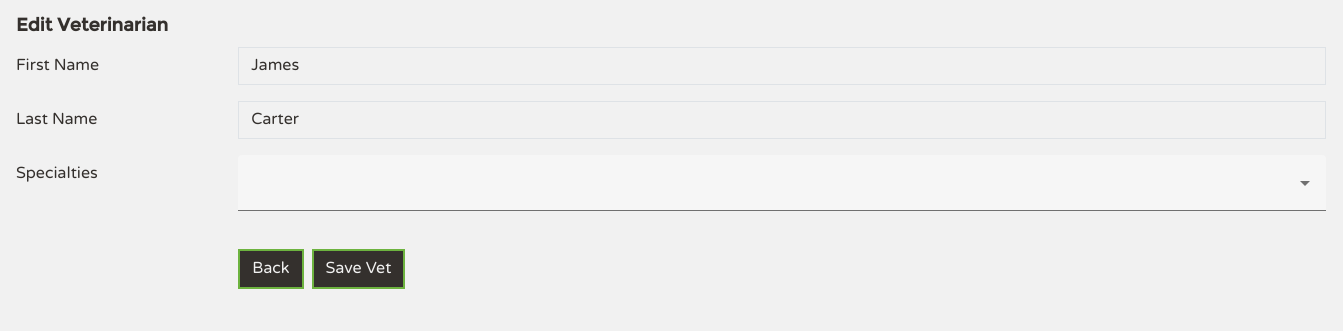
Test: VetEditComponent › should disable the submit button when the form is invalid
Replace the text in the field with id "lastName" with "C" at [782, 120], box [238,101,1326,139]
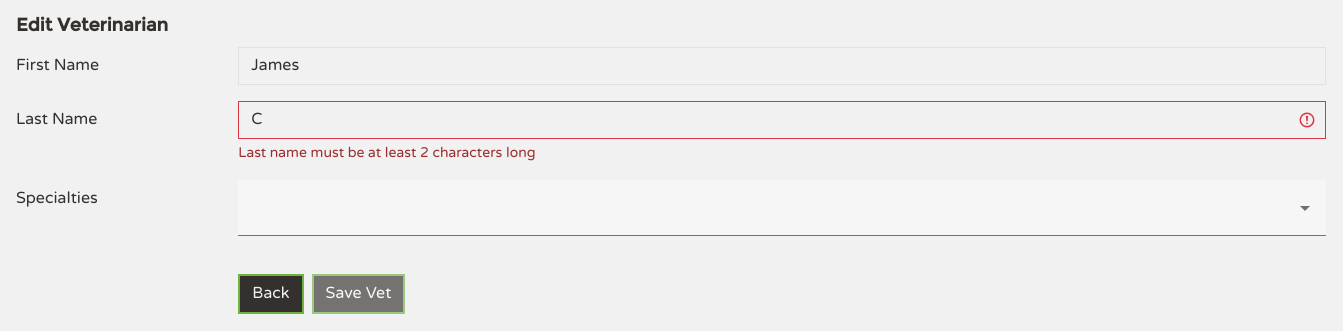
Check: the text "Last name must be at least 2 characters long" is shown, box [238,145,536,161]
Check: the submit button is disabled, box [312,274,405,314]
